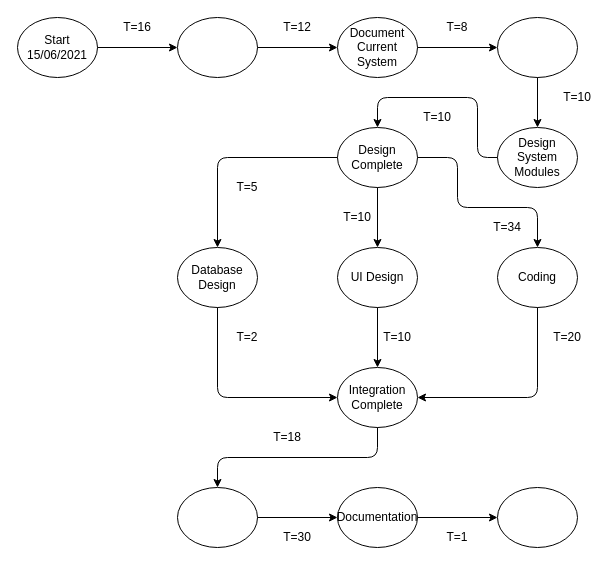
Image size: 615x565. Some labels were removed from this diagram. Each missing label, with the box of its shape:
Analysis complete: (496, 16, 578, 78)
Finish 20/11/2021: (496, 486, 578, 548)
Planning: (176, 16, 258, 78)
Testing: (176, 486, 258, 548)
